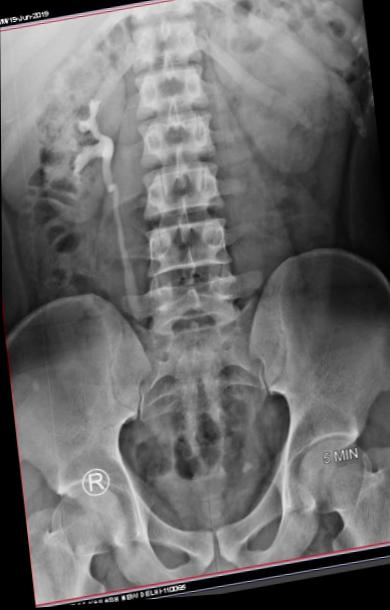right kidney: (20, 64, 132, 255)
vertebrae: (133, 50, 211, 112)
